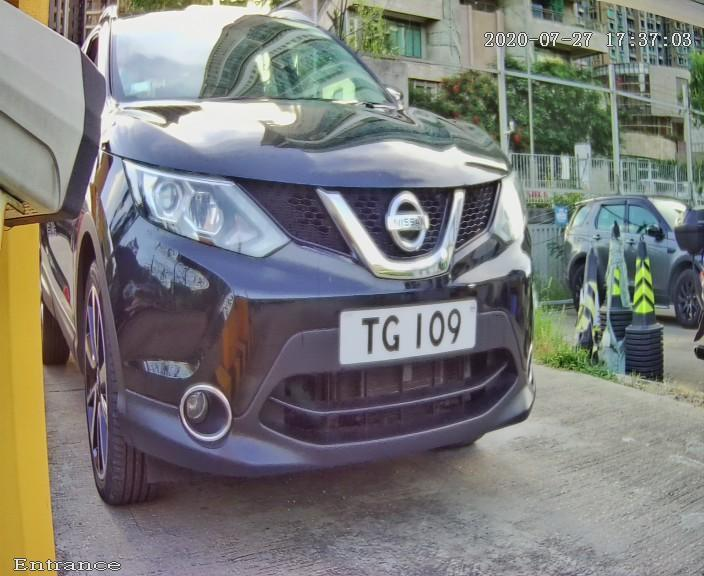privatecar: (41, 19, 579, 512)
